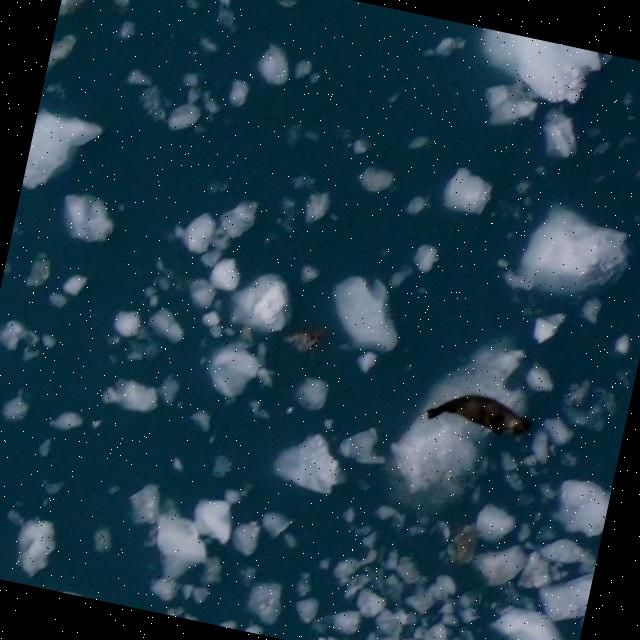seal: (423, 393, 530, 436)
